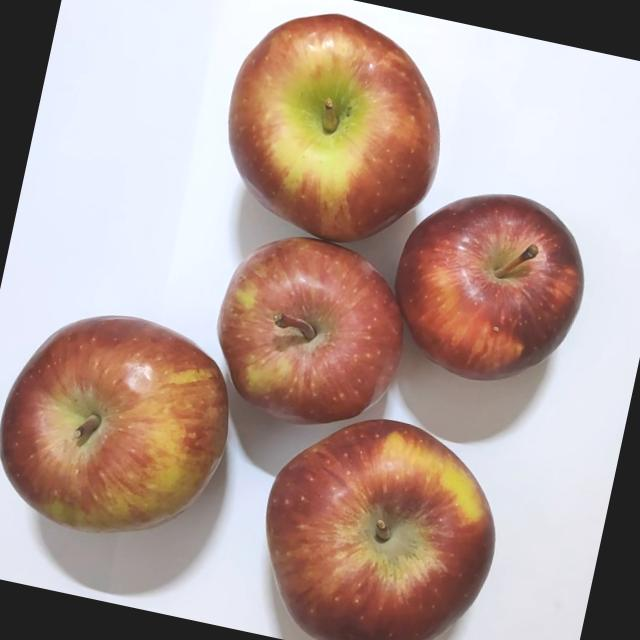apple: (0, 284, 253, 575), (200, 0, 468, 269), (234, 393, 523, 640), (369, 168, 607, 412), (190, 215, 424, 445)
